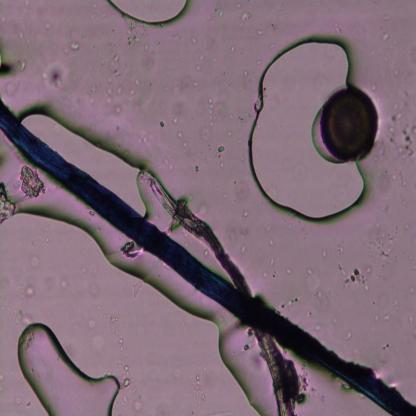Air bubble: (244, 34, 368, 224), (18, 108, 154, 220), (17, 320, 120, 416), (107, 0, 193, 35)
Background material: (102, 51, 141, 116), (381, 112, 416, 160), (193, 96, 223, 139), (371, 222, 401, 260), (336, 263, 372, 294), (16, 165, 46, 202), (124, 20, 152, 58), (225, 217, 251, 254), (370, 282, 393, 323), (41, 58, 67, 92), (85, 314, 106, 352), (0, 183, 18, 227), (168, 111, 191, 145), (196, 29, 224, 56), (0, 49, 26, 78), (110, 313, 127, 351), (120, 360, 131, 404), (373, 23, 393, 46), (193, 375, 207, 403), (129, 277, 146, 300), (122, 241, 142, 259), (189, 54, 205, 76), (28, 248, 43, 271), (43, 271, 58, 293), (173, 83, 191, 101), (157, 154, 173, 172), (284, 294, 304, 307), (22, 284, 36, 298), (68, 40, 81, 52), (241, 9, 252, 23), (342, 324, 352, 338), (216, 143, 226, 156), (64, 276, 72, 292), (268, 253, 277, 267), (92, 282, 99, 298), (286, 264, 294, 278), (316, 290, 324, 301), (306, 268, 314, 278)
Cellulose filter fibre: (148, 171, 295, 415)
Cotton: (0, 98, 416, 416)
Diatom: (321, 86, 379, 164)
